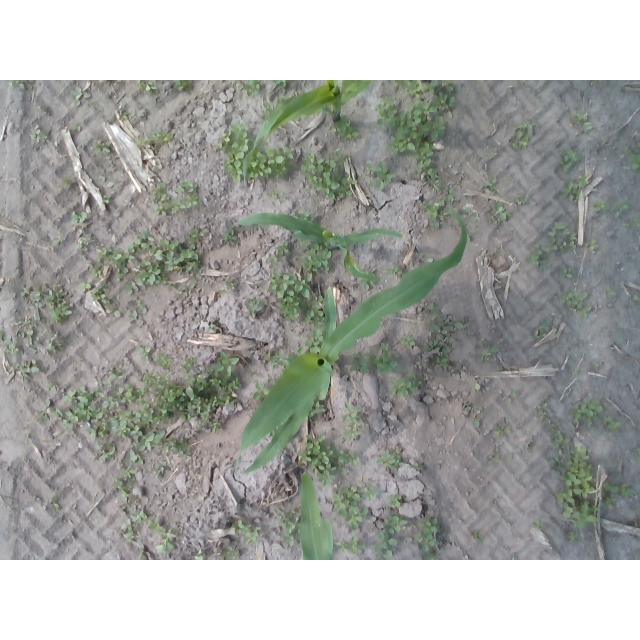Maize: (236, 204, 469, 473), (244, 80, 373, 184), (225, 212, 405, 283), (299, 472, 334, 560)
Weeds: (34, 345, 243, 504), (77, 227, 203, 319), (552, 441, 637, 544), (377, 80, 458, 188), (0, 279, 76, 389), (299, 433, 366, 487), (529, 221, 600, 268), (426, 302, 474, 371), (272, 269, 325, 327), (302, 148, 359, 200), (329, 483, 377, 530), (216, 124, 250, 186), (151, 180, 202, 218), (370, 512, 410, 560), (537, 402, 572, 452), (251, 147, 293, 179), (301, 243, 332, 286), (416, 515, 445, 559), (571, 399, 606, 434), (389, 369, 427, 399), (120, 506, 150, 542), (342, 401, 368, 442), (148, 521, 178, 556), (279, 508, 302, 549), (564, 292, 597, 320), (511, 119, 537, 154), (335, 115, 366, 143), (373, 343, 399, 376), (134, 130, 174, 151), (333, 536, 369, 559), (569, 109, 596, 138), (561, 176, 591, 201), (235, 520, 266, 544), (377, 446, 404, 472), (462, 401, 486, 430), (348, 349, 373, 376), (424, 200, 445, 232), (558, 147, 582, 174), (244, 295, 271, 319), (486, 199, 512, 223), (266, 241, 289, 267), (264, 348, 292, 369), (621, 144, 640, 173), (480, 339, 500, 366), (69, 85, 92, 108), (299, 330, 322, 353), (27, 125, 50, 147), (532, 317, 552, 342), (240, 80, 264, 98), (217, 279, 239, 298), (491, 422, 514, 439), (91, 139, 115, 155), (613, 199, 631, 220), (252, 379, 269, 401), (70, 211, 91, 228), (386, 492, 407, 509), (137, 81, 160, 96), (225, 229, 240, 251), (590, 198, 610, 214), (398, 334, 418, 350), (473, 374, 488, 395), (223, 544, 242, 560), (620, 215, 640, 230), (9, 80, 39, 90), (173, 80, 196, 93), (408, 457, 424, 474), (293, 211, 319, 221), (487, 178, 502, 195), (605, 414, 620, 431), (517, 194, 537, 206), (502, 389, 518, 404), (387, 265, 403, 279), (274, 81, 294, 92), (447, 186, 457, 207), (530, 520, 546, 533), (525, 436, 535, 455), (561, 269, 575, 282), (489, 454, 500, 470), (62, 177, 73, 192), (191, 550, 207, 560), (268, 372, 281, 384), (49, 495, 62, 506), (470, 531, 483, 542), (360, 279, 372, 290), (590, 363, 600, 376), (34, 101, 46, 111), (102, 195, 114, 205), (268, 191, 280, 201), (603, 288, 616, 297), (120, 112, 129, 125), (99, 175, 110, 184), (73, 125, 83, 134), (209, 324, 219, 332), (489, 152, 499, 160), (634, 294, 640, 306), (572, 369, 581, 376), (508, 454, 514, 462)
